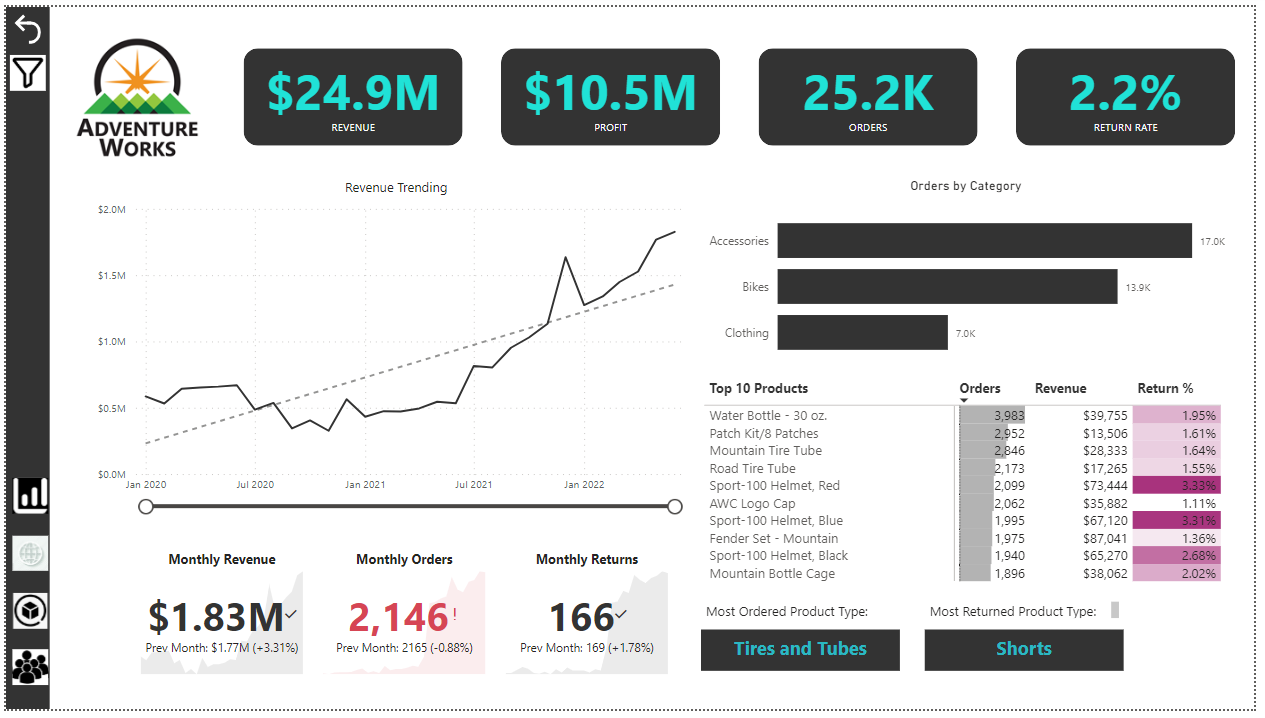

This screenshot's page, from the dashboard's own definition file:
{"tool":"powerbi","page":{"name":"Exec Dashboard","canvas":[1280,720],"ordinal":0},"visuals":[{"type":"card","fields":{"Values":["Measure Table.Total Revenue"]},"box":[246.3,16.2,220,150],"z":0,"group":"g2"},{"type":"image","title":"AW Logo","box":[23.8,18.8,220,147.5],"z":0},{"type":"group","id":"g1","title":"KPI Backgrounds","box":[243.8,42.4,1017.5,100],"z":0,"group":"g3"},{"type":"shape","box":[243.8,42.4,225,100],"z":0,"group":"g1"},{"type":"shape","title":"Left Nav Background","box":[0,0,45,720],"z":1000},{"type":"group","id":"g2","title":"KPI Values","box":[246.3,16.2,1012.5,150],"z":1000,"group":"g3"},{"type":"card","fields":{"Values":["Measure Table.Total Profit"]},"box":[510.5,16.2,220,150],"z":1000,"group":"g2"},{"type":"shape","box":[508,42.4,225,100],"z":1000,"group":"g1"},{"type":"card","fields":{"Values":["Measure Table.Total orders"]},"box":[774.6,16.2,220,150],"z":2000,"group":"g2"},{"type":"shape","box":[772.1,42.4,225,100],"z":2000,"group":"g1"},{"type":"actionButton","box":[2.5,472.2,44.6,59.1],"z":2000},{"type":"group","id":"g3","title":"KPIs","box":[243.8,16.2,1017.5,150],"z":3000},{"type":"card","fields":{"Values":["Measure Table.Return Rate"]},"box":[1038.8,16.2,220,150],"z":3000,"group":"g2"},{"type":"shape","box":[1036.3,42.4,225,100],"z":3000,"group":"g1"},{"type":"actionButton","box":[2.5,590.1,44.6,59.1],"z":4000},{"type":"lineChart","title":"Revenue Trending","fields":{"Y":["Measure Table.Total Revenue"],"Category":["Calendar Lookup.Year","Calendar Lookup.Start of Month"]},"box":[88,176.1,623.5,347.3],"z":5000},{"type":"actionButton","box":[2.5,647.9,44.6,59.1],"z":6000},{"type":"kpi","title":"Monthly Revenue ","fields":{"Indicator":["Measure Table.Total Revenue"],"TrendLine":["Calendar Lookup.Start of Month"],"Goal":["Measure Table.Previous Month Revenue"]},"box":[133.9,556,176.1,132.7],"z":7000},{"type":"actionButton","box":[2.5,529.9,44.6,61.5],"z":8000},{"type":"kpi","title":"Monthly Orders","fields":{"TrendLine":["Calendar Lookup.Start of Month"],"Indicator":["Measure Table.Total orders"],"Goal":["Measure Table.Previous Month Order"]},"box":[320.8,556,176.1,132.7],"z":9000},{"type":"kpi","title":"Monthly Returns","fields":{"TrendLine":["Calendar Lookup.Start of Month"],"Indicator":["Measure Table.Total Returns"],"Goal":["Measure Table.Previous Month Returns"]},"box":[507.7,556,176.1,132.7],"z":10000},{"type":"clusteredBarChart","title":"Orders by Category","fields":{"Category":["Product Categories Lookup.CategoryName"],"Y":["Measure Table.Total orders"]},"box":[711.6,176.1,546.3,201.4],"z":11000},{"type":"pivotTable","fields":{"Rows":["Product Lookup.ProductName"],"Values":["Measure Table.Total orders","Measure Table.Total Revenue","Measure Table.Return Rate"]},"box":[711.6,377.5,549.9,227.9],"z":12000},{"type":"card","fields":{"Values":["Min(Product Subcategories Lookup.SubcategoryName)"]},"box":[712.8,638,203.8,42.2],"z":13000},{"type":"textbox","box":[712.8,605.4,185.7,32.6],"z":14000},{"type":"card","fields":{"Values":["Min(Product Subcategories Lookup.SubcategoryName)"]},"box":[941.9,638,203.8,42.2],"z":15000},{"type":"textbox","box":[941.9,605.4,203.8,26.5],"z":16000},{"type":"actionButton","box":[2.4,2.4,44.6,39.8],"z":17000},{"type":"actionButton","box":[0,43.4,44.6,48.2],"z":18000}]}

Visuals, with their boxes on the page's 1280x720 design canvas (x1, y1, x2, y2). These are canvas units, not pixel positions in the 1265x718 screenshot, which may show the page scaled, cropped or inside an application window:
card - Measure Table.Total Revenue: [246, 16, 466, 166]
"AW Logo" image: [24, 19, 244, 166]
"KPI Backgrounds" group: [244, 42, 1261, 142]
shape: [244, 42, 469, 142]
"Left Nav Background" shape: [0, 0, 45, 720]
"KPI Values" group: [246, 16, 1259, 166]
card - Measure Table.Total Profit: [510, 16, 730, 166]
shape: [508, 42, 733, 142]
card - Measure Table.Total orders: [775, 16, 995, 166]
shape: [772, 42, 997, 142]
actionButton: [2, 472, 47, 531]
"KPIs" group: [244, 16, 1261, 166]
card - Measure Table.Return Rate: [1039, 16, 1259, 166]
shape: [1036, 42, 1261, 142]
actionButton: [2, 590, 47, 649]
"Revenue Trending" lineChart: [88, 176, 712, 523]
actionButton: [2, 648, 47, 707]
"Monthly Revenue " kpi: [134, 556, 310, 689]
actionButton: [2, 530, 47, 591]
"Monthly Orders" kpi: [321, 556, 497, 689]
"Monthly Returns" kpi: [508, 556, 684, 689]
"Orders by Category" clusteredBarChart: [712, 176, 1258, 378]
pivotTable - Product Lookup.ProductName x Measure Table.Total orders: [712, 378, 1262, 605]
card - Min(Product Subcategories Lookup.SubcategoryName): [713, 638, 917, 680]
textbox: [713, 605, 898, 638]
card - Min(Product Subcategories Lookup.SubcategoryName): [942, 638, 1146, 680]
textbox: [942, 605, 1146, 632]
actionButton: [2, 2, 47, 42]
actionButton: [0, 43, 45, 92]
